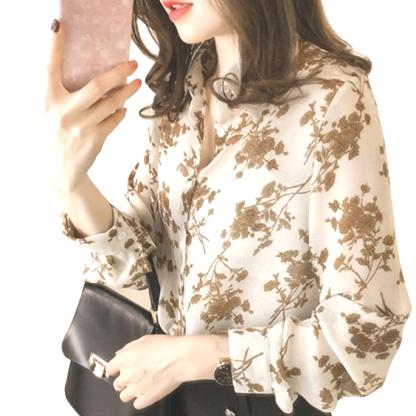dress: (58, 25, 416, 416)
